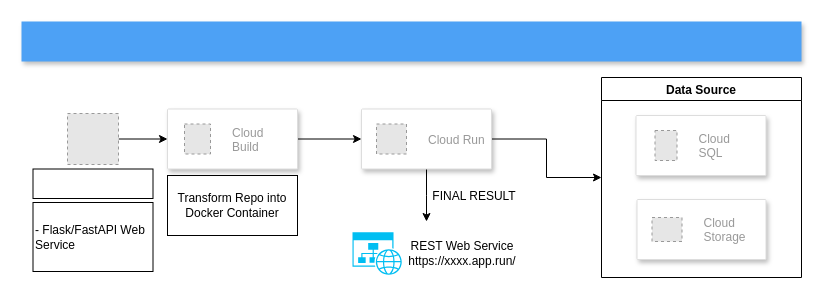
This 824x300 diagram has some shape labels left out. Grey dashed boxes stand in for pictures. Each missing label, with the centre of its shape:
"GCP Resource Plan" goes at (x=412, y=42).
"Github Repository" goes at (x=92, y=183).
